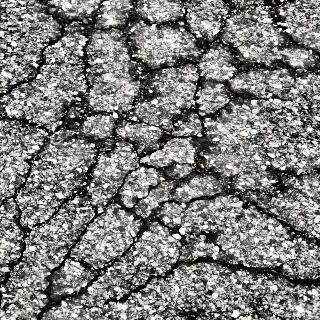alligator-crack: (1, 1, 317, 317)
